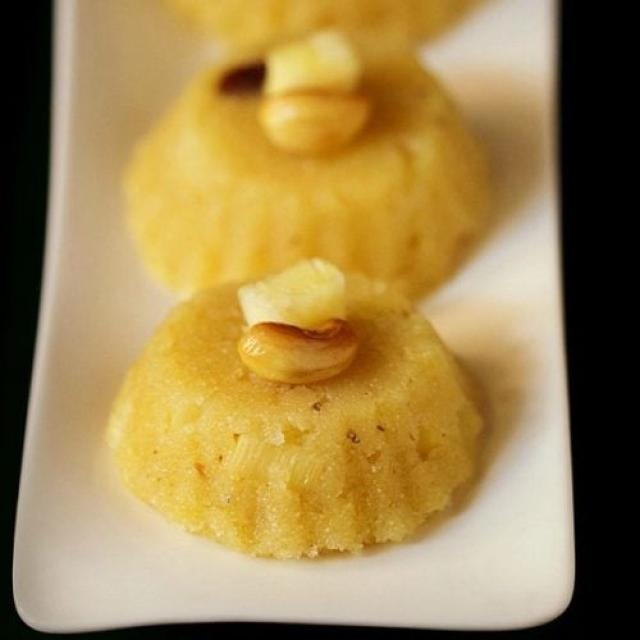kesari bath: (99, 247, 502, 578), (110, 22, 500, 300)
